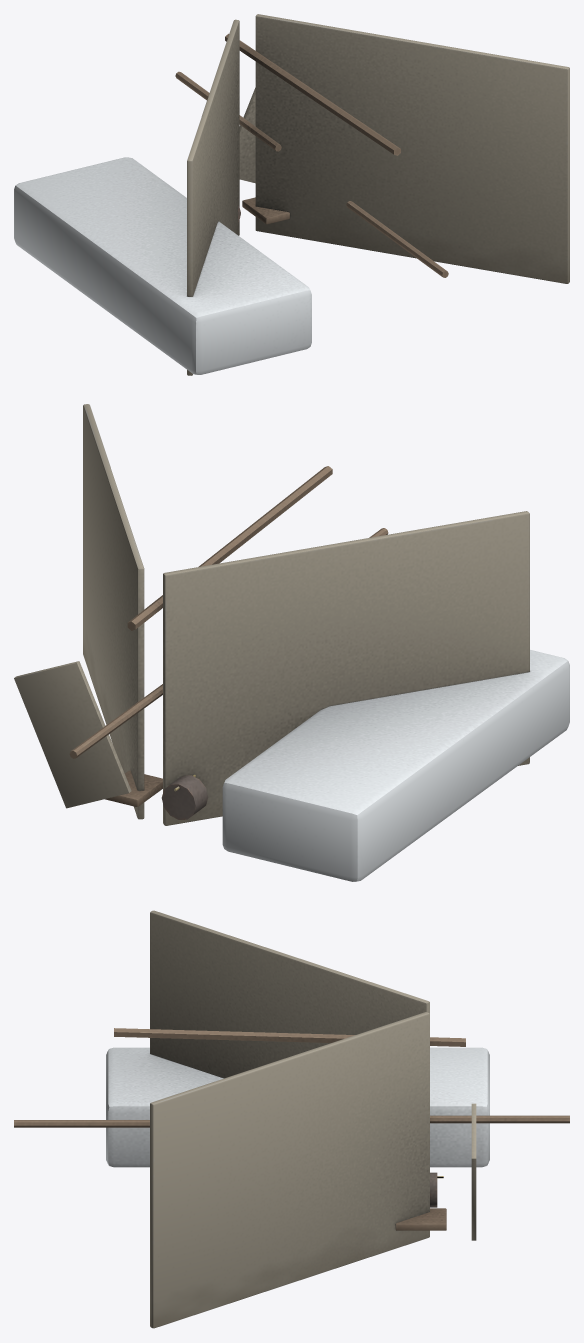
The model's file is expedition_tent.glb.
3 renders of one model, top to bottom at view 1: azimuth 30°, elevation 25°; view 2: azimuth 150°, elevation 25°; view 3: azimuth 270°, elevation 25°, orthographic. The views are drawn at different scales.
Visible parts, largest first — view 1: expedition_tent; view 2: expedition_tent; view 3: expedition_tent.
Part boxes in pixels (x1=…): expedition_tent: x1=14, y1=14, x2=569, y2=375; expedition_tent: x1=14, y1=404, x2=569, y2=881; expedition_tent: x1=14, y1=910, x2=569, y2=1328.
Size of the model in its own units: 2.99 by 1.55 by 3.47.
Materials: 1 (1 with a texture image).
